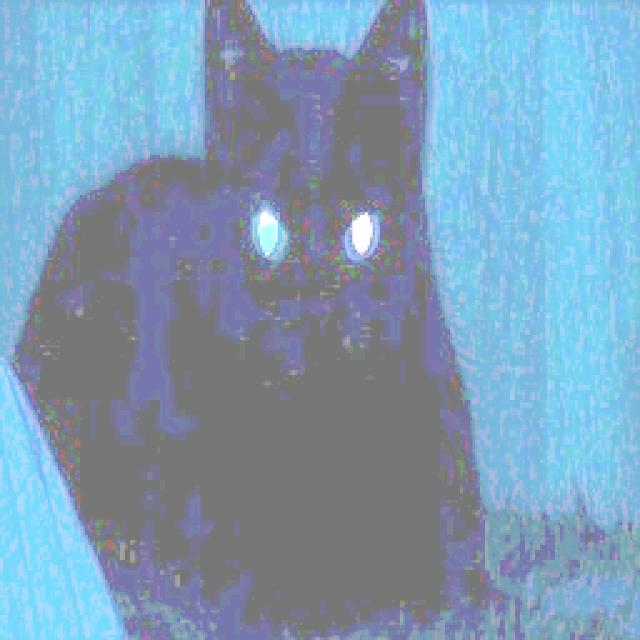cat: (12, 4, 501, 640)
